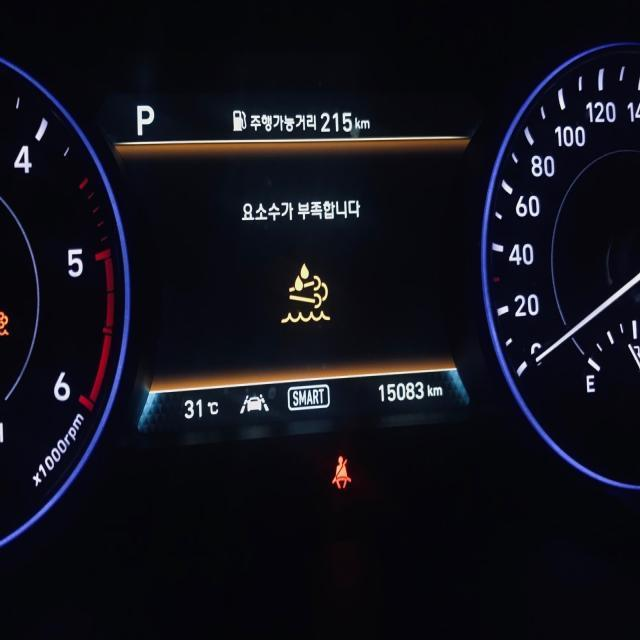LaneCenteringOff: (237, 391, 269, 416)
